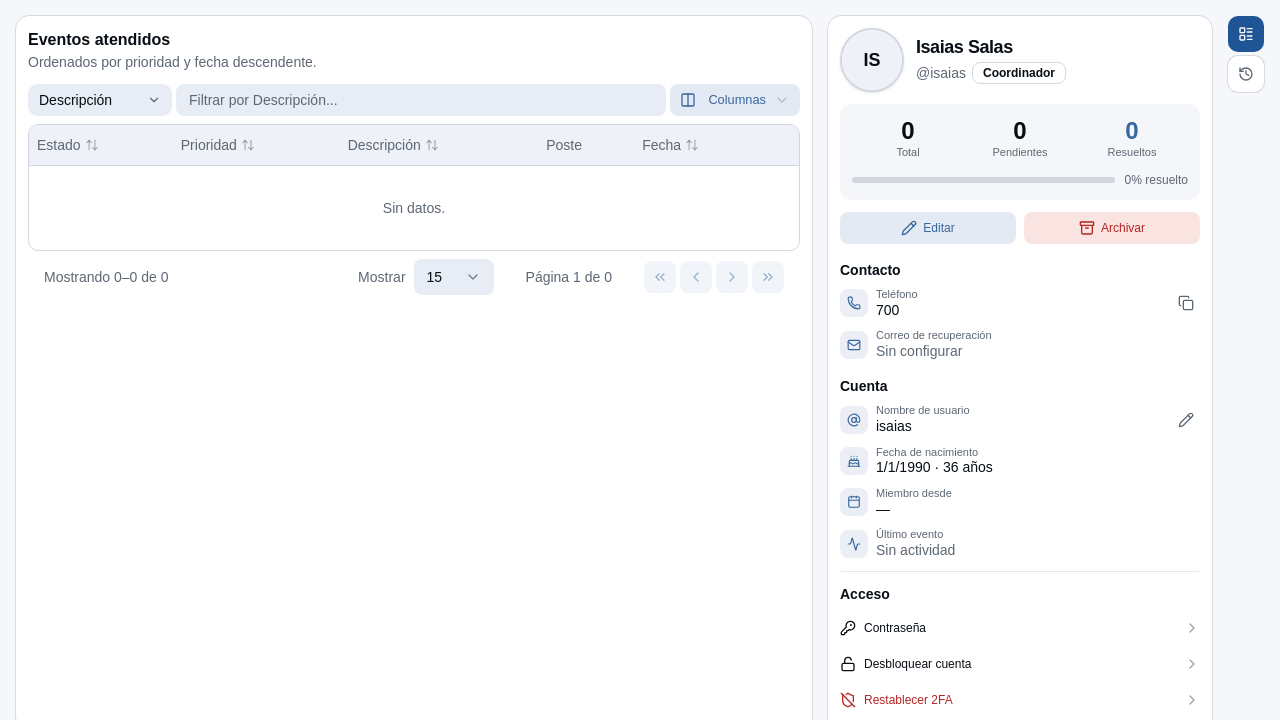
Test case: the views of the panel › says so when the half about the account did not arrive
Click the tab named "Bitácora".
click(1246, 74)  # box x1=1228 y1=56 x2=1264 y2=92
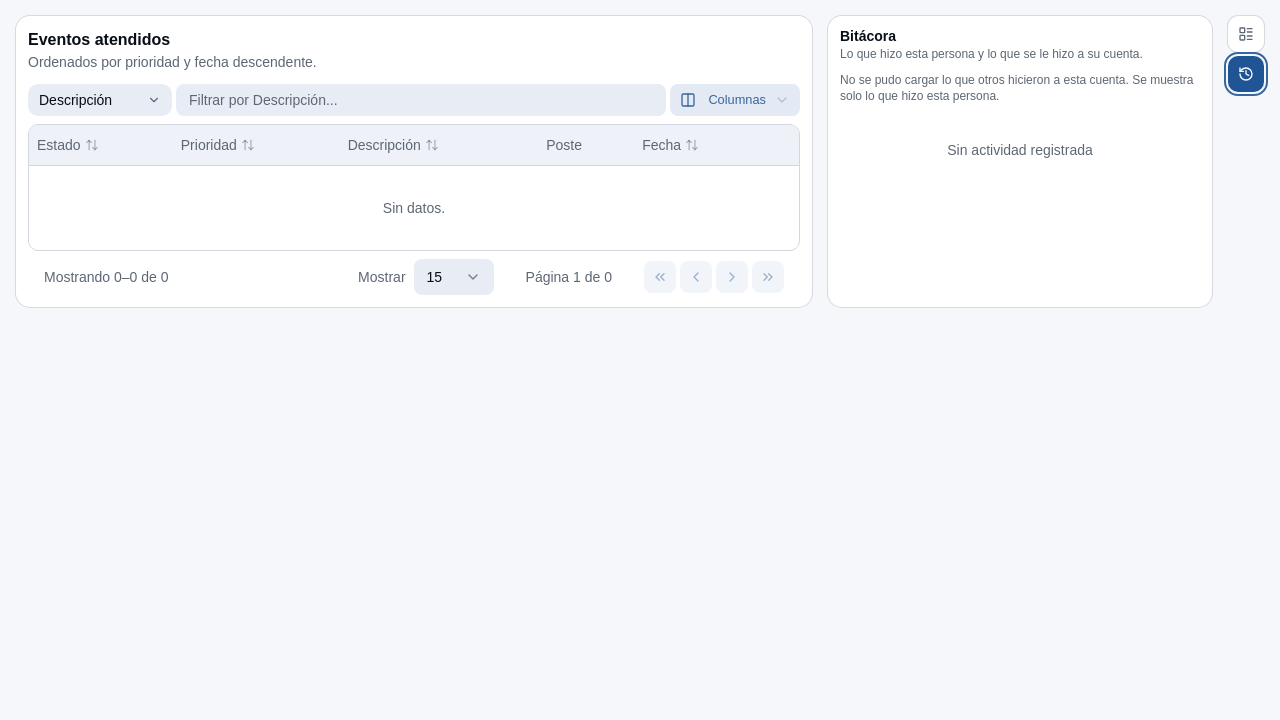
Check: the text "No se pudo cargar lo que otros hicieron" is shown, box x1=840 y1=73 x2=1194 y2=103
